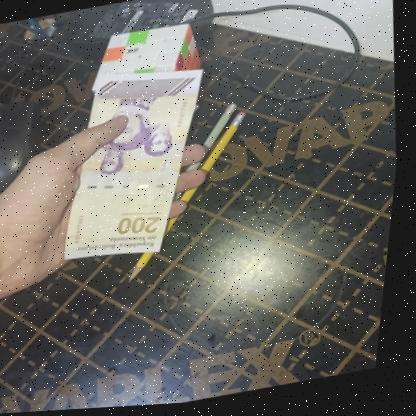two_hundred-front-vef: (46, 59, 228, 271)
